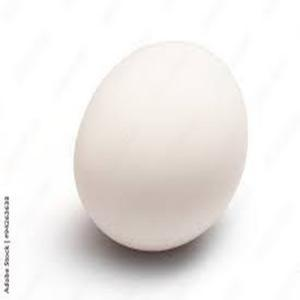Egg: (71, 36, 252, 258)
